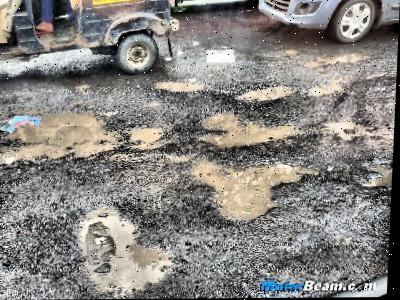pothole: (67, 199, 183, 298), (186, 153, 307, 225), (0, 102, 126, 169), (197, 108, 306, 148), (239, 81, 298, 103), (126, 122, 168, 149), (360, 160, 393, 192), (155, 78, 206, 94)
